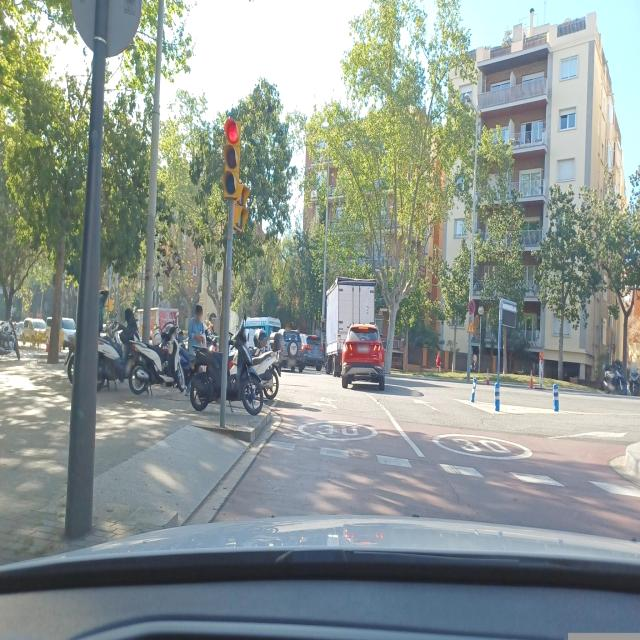bike: (189, 335, 265, 414), (92, 322, 151, 396), (131, 328, 189, 394)
car: (340, 322, 386, 392), (275, 330, 304, 372), (44, 316, 76, 351), (298, 332, 324, 372), (19, 317, 50, 347)
